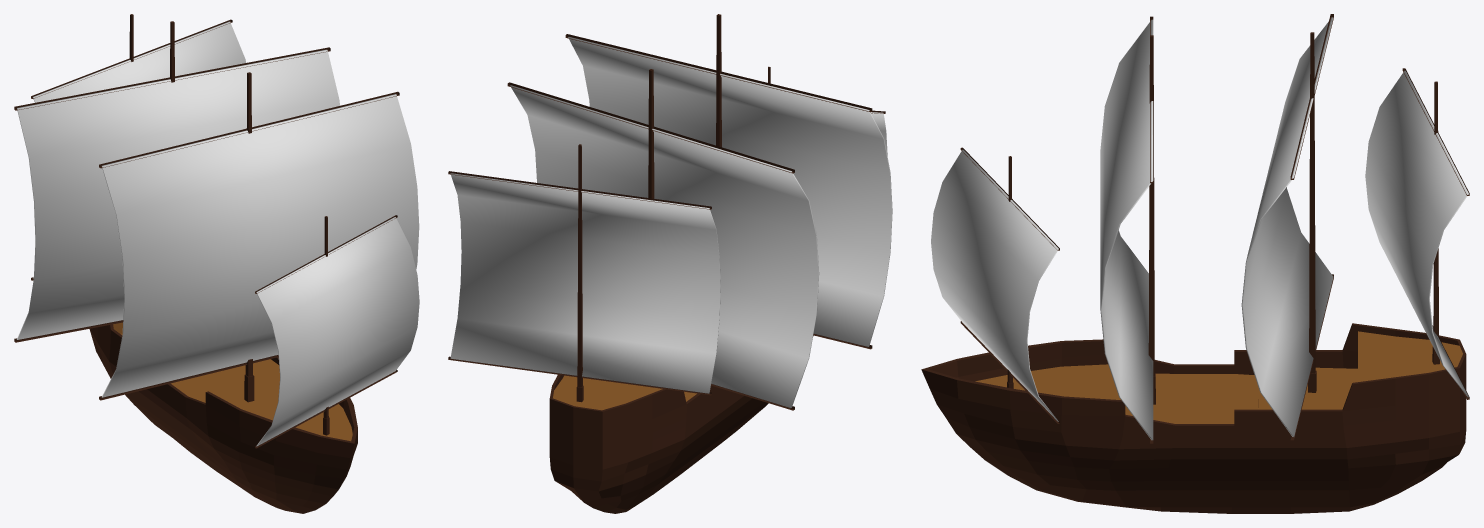
File: boat.gltf
3 renders of one model, left to right at view 1: azimuth 30°, elevation 25°; view 2: azimuth 150°, elevation 25°; view 3: azimuth 270°, elevation 25°, orthographic. The views are drawn at different scales.
Parts seen in each view (by area): view 1: Plane (×4), Cube.001, Cube.003 (×3), Cube.002, Cube.004; view 2: Plane (×3), Cube.001, Cube.003 (×3), Cube.002 (×3), Cube.004; view 3: Cube.001, Plane (×4), Cube.002 (×3).
Part boxes in pixels (x1,y1,x2,y2): Plane (×4): [17, 21, 419, 446]; Cube.001: [89, 322, 357, 513]; Cube.003 (×3): [14, 19, 399, 168]; Cube.002: [244, 72, 254, 402]; Cube.004: [99, 355, 278, 400]; Plane (×3): [450, 37, 892, 407]; Cube.001: [549, 335, 813, 513]; Cube.003 (×3): [448, 34, 872, 209]; Cube.002 (×3): [576, 14, 721, 402]; Cube.004: [448, 356, 711, 395]; Cube.001: [921, 323, 1466, 513]; Plane (×4): [931, 17, 1468, 440]; Cube.002 (×3): [1148, 32, 1439, 404].
Bounding box in the file's own units: 35.71 × 47.5 × 49.53.
